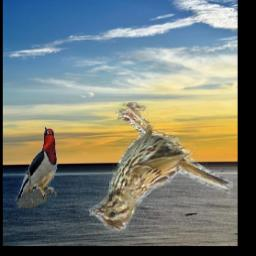Sparrow: (86, 102, 232, 233)
Woodpecker: (14, 123, 59, 209)
